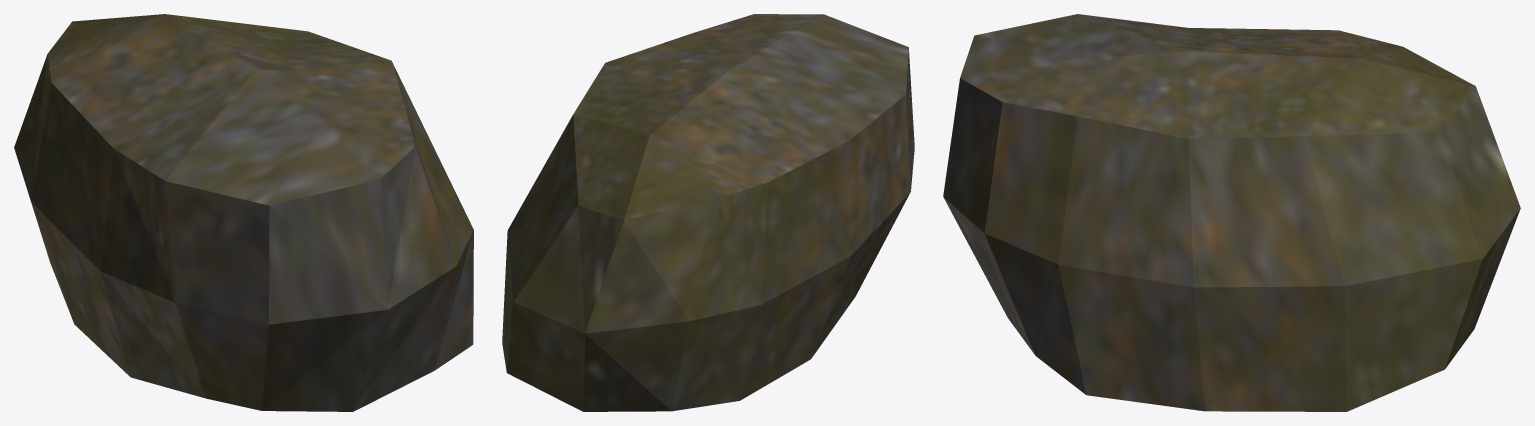
Rendered from Rock02c.obj.
The picture shows the model from 3 angles, left to right: view 1: azimuth 30°, elevation 25°; view 2: azimuth 150°, elevation 25°; view 3: azimuth 270°, elevation 25°; orthographic projection. The views are drawn at different scales.
Visible parts, largest first — view 1: Rock02; view 2: Rock02; view 3: Rock02.
Boxes of the visible parts, left/top/right/bottom form: Rock02: left=14, top=14, right=473, bottom=411; Rock02: left=502, top=14, right=914, bottom=411; Rock02: left=943, top=14, right=1520, bottom=411.
Bounding box in the file's own units: 1.48 × 1.31 × 2.29.
